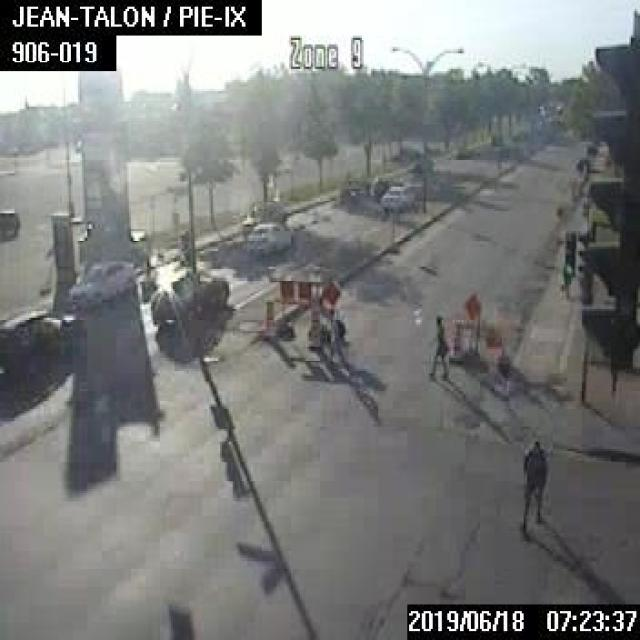construction: (269, 271, 339, 343), (448, 291, 515, 364), (259, 298, 276, 340), (305, 302, 321, 346)
pedestrian: (520, 438, 546, 540), (427, 313, 447, 380), (322, 307, 341, 362)
vehicle: (0, 307, 84, 373), (147, 271, 227, 325), (66, 259, 135, 306), (246, 221, 290, 254), (243, 200, 286, 229), (378, 184, 413, 209), (339, 175, 368, 201), (370, 173, 396, 197), (0, 210, 20, 239), (406, 154, 434, 174)
